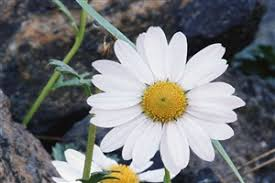flower: (73, 27, 250, 182)
